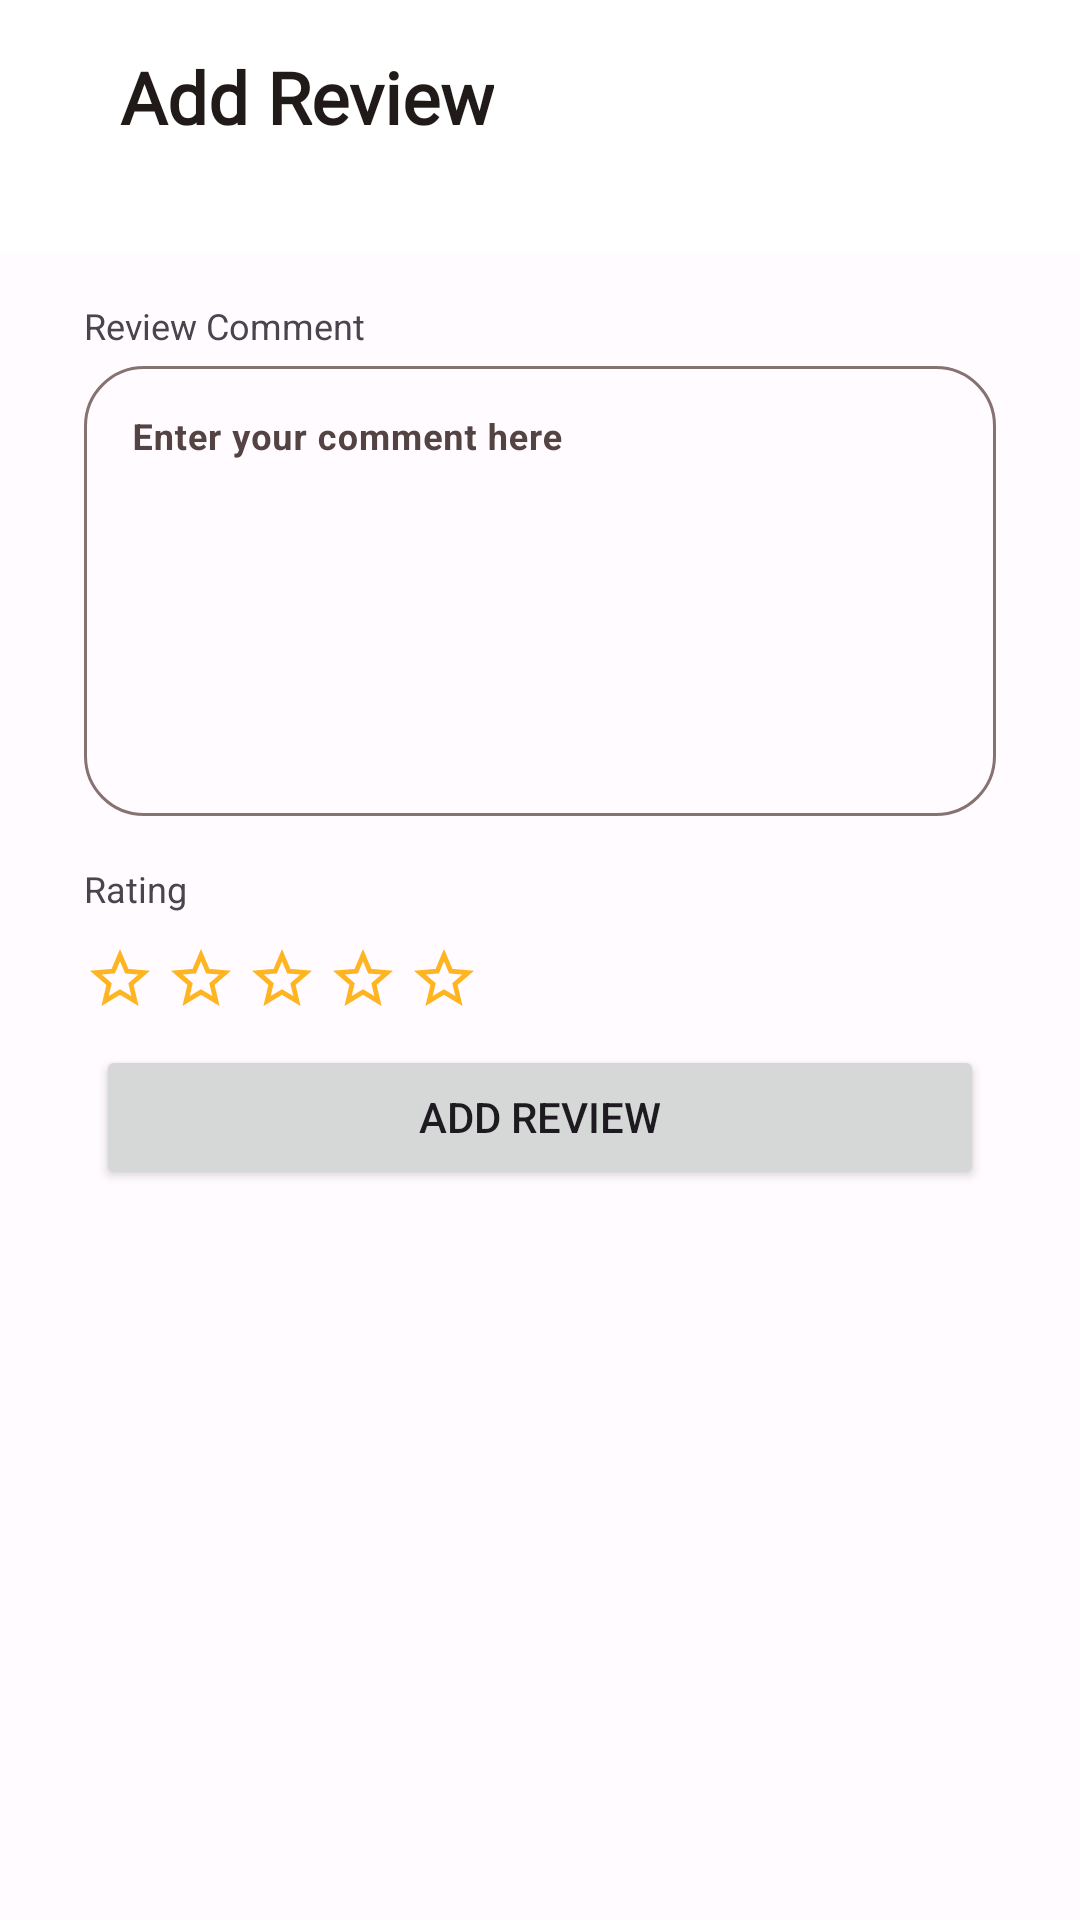

Named icons in this screenshot (1080*1920) and their centers, (x=x, y=y):
star border: (x=120, y=977), (x=201, y=977), (x=282, y=977), (x=363, y=977), (x=444, y=977)
